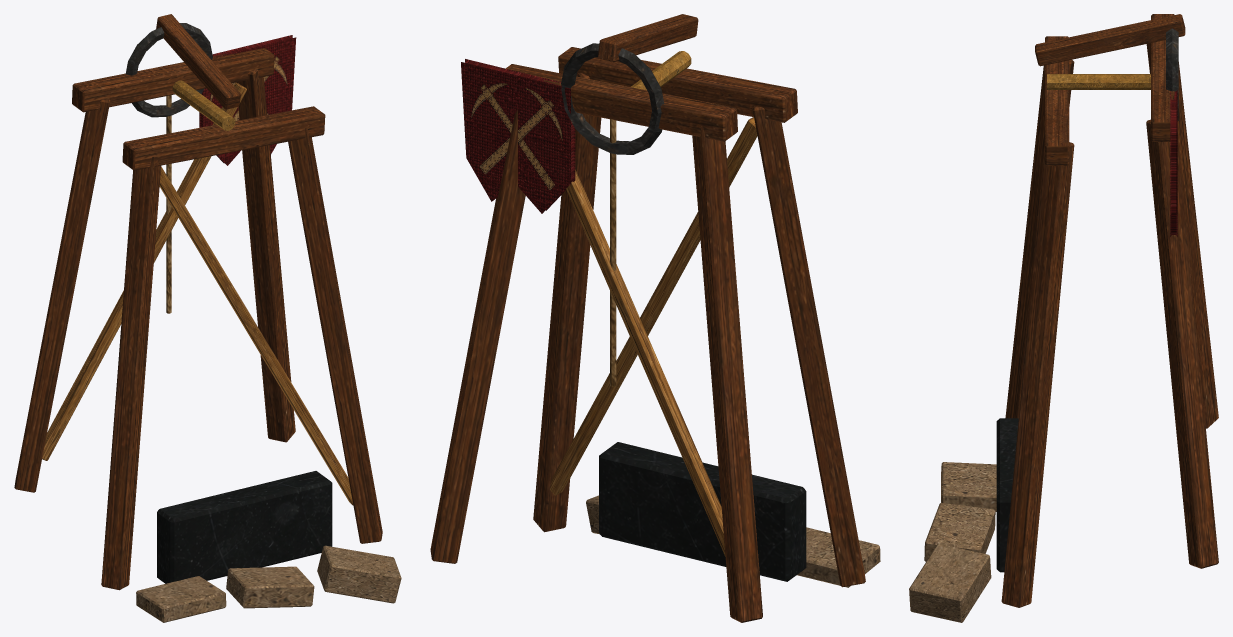
Rendered from seized_headframe.glb.
3 views of the same model, side by side, from view 1: azimuth 30°, elevation 25°; view 2: azimuth 150°, elevation 25°; view 3: azimuth 270°, elevation 25° (orthographic). The views are drawn at different scales.
Parts seen in each view (by area): view 1: seized_headframe; view 2: seized_headframe; view 3: seized_headframe.
Boxes of the visible parts, left/top/right/bottom form: seized_headframe: left=14, top=14, right=401, bottom=622; seized_headframe: left=430, top=14, right=880, bottom=622; seized_headframe: left=909, top=14, right=1218, bottom=622.
Size of the model in its own units: 4.16 by 7.38 by 3.79.
Materials: 1 (1 with a texture image).
